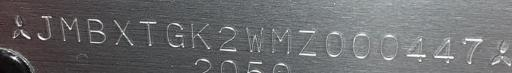letter: (457, 34, 485, 65), (111, 16, 137, 49), (268, 23, 294, 56), (294, 25, 320, 58), (430, 32, 456, 65), (136, 16, 160, 49), (242, 24, 266, 57), (164, 20, 188, 51), (322, 28, 346, 59), (376, 32, 400, 63), (404, 33, 428, 64), (216, 23, 238, 56), (57, 15, 83, 42), (85, 15, 109, 44), (188, 20, 212, 49), (350, 30, 372, 61), (34, 12, 54, 45)
